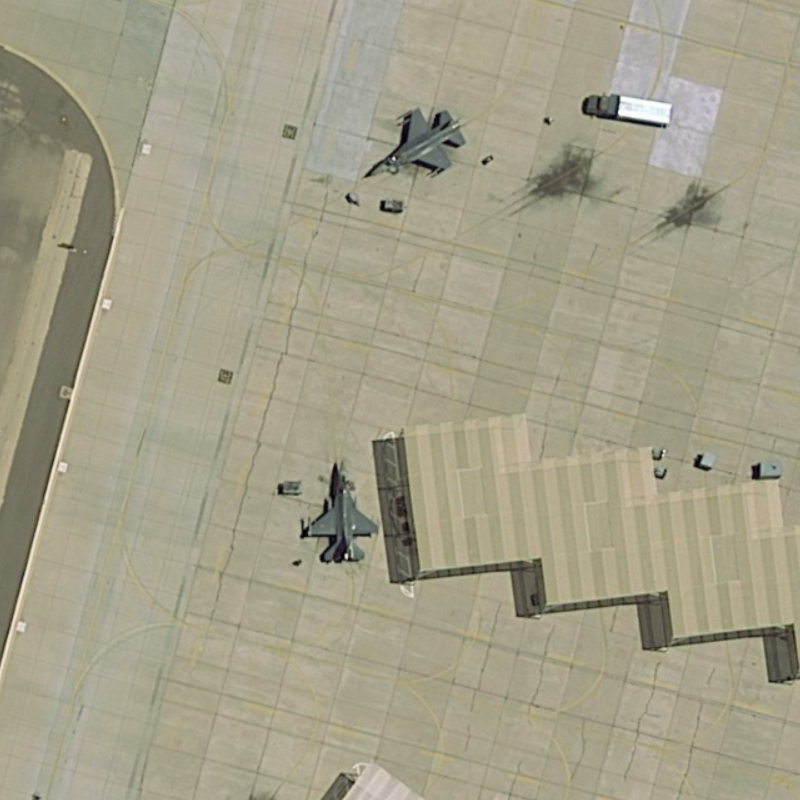A5: (299, 452, 381, 565), (364, 104, 468, 184)
